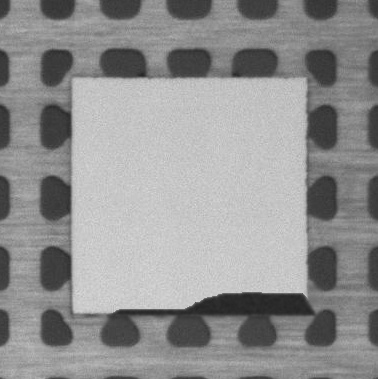DIE_BROKEN: (106, 291, 311, 317)
